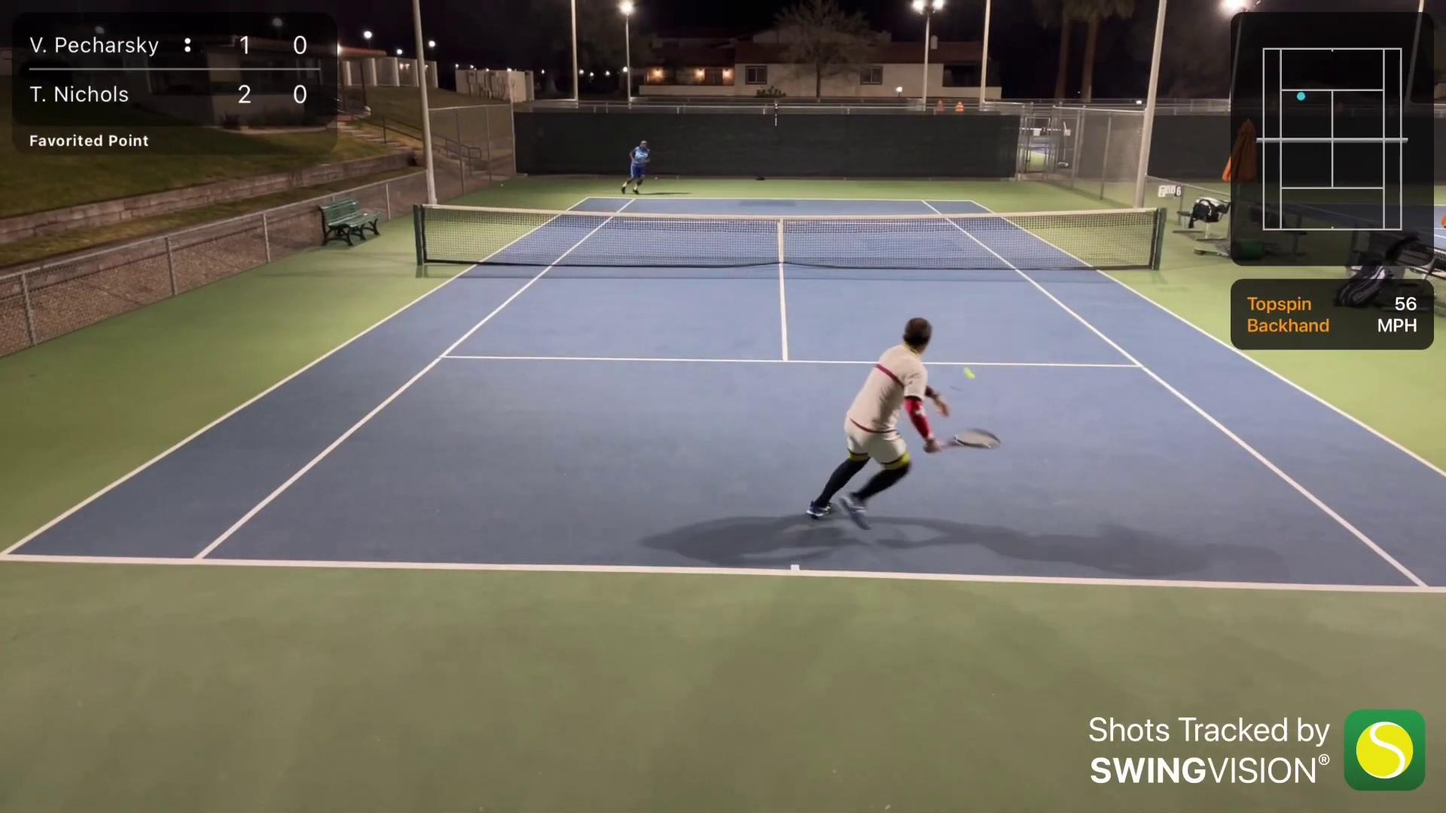ball: (963, 368, 979, 379)
